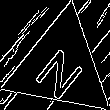N_NE: (31, 34, 91, 99)
